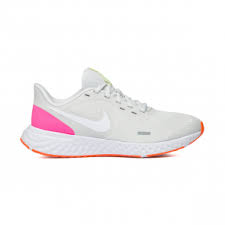nike: (44, 102, 117, 137)
